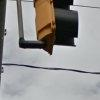Traffic light: (27, 1, 92, 58)
